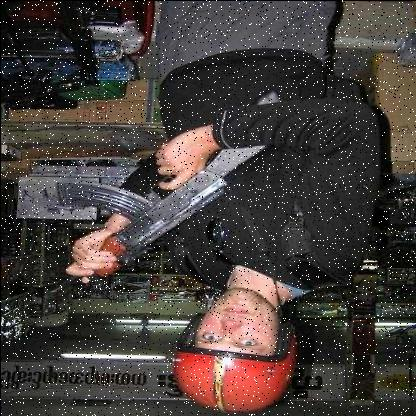rifle: (45, 86, 285, 300)
